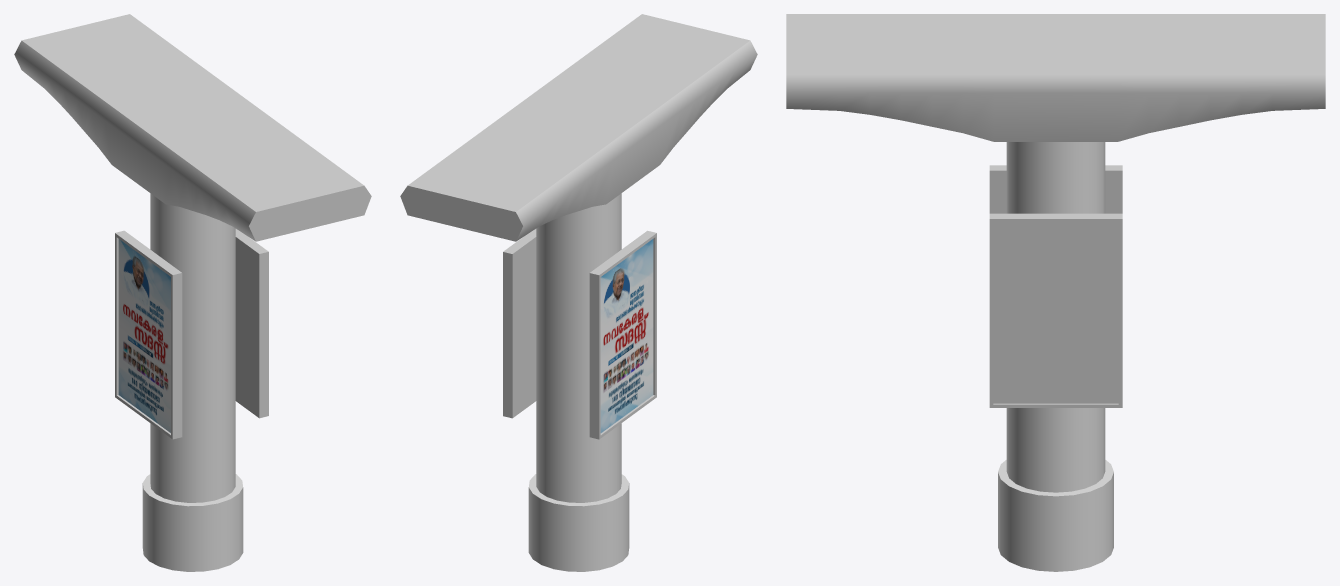
Rendered from Potrait1.fbx.
The picture shows the model from 3 angles, left to right: view 1: azimuth 30°, elevation 25°; view 2: azimuth 150°, elevation 25°; view 3: azimuth 270°, elevation 25°; orthographic projection. The views are drawn at different scales.
Visible parts, largest first — view 1: top1, piller, add_advertA1, ADDBOARD, ADDBOARD1; view 2: top1, piller, add_advertA1, ADDBOARD, ADDBOARD1; view 3: top1, piller, add_advertA, ADDBOARD, ADDBOARD1.
Boxes of the visible parts, x1,y1,x2,y2 form: top1: (14,14,371,241); piller: (142,193,243,571); add_advertA1: (118,239,170,432); ADDBOARD: (235,229,268,418); ADDBOARD1: (115,230,182,439); top1: (400,14,757,241); piller: (528,193,629,571); add_advertA1: (600,239,653,432); ADDBOARD: (503,229,536,418); ADDBOARD1: (589,230,656,439); top1: (786,14,1325,141); piller: (998,142,1113,571); add_advertA: (993,222,1118,403); ADDBOARD: (989,213,1122,407); ADDBOARD1: (989,165,1122,213).
Size of the model in its own units: 989 by 3365 by 3268.
Materials: 2 (1 with a texture image).
